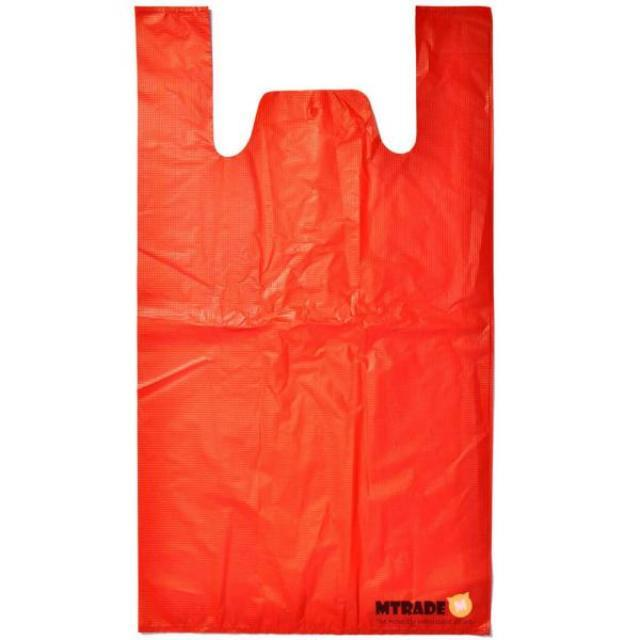Bolsa-de-nilon: (129, 5, 496, 640)
